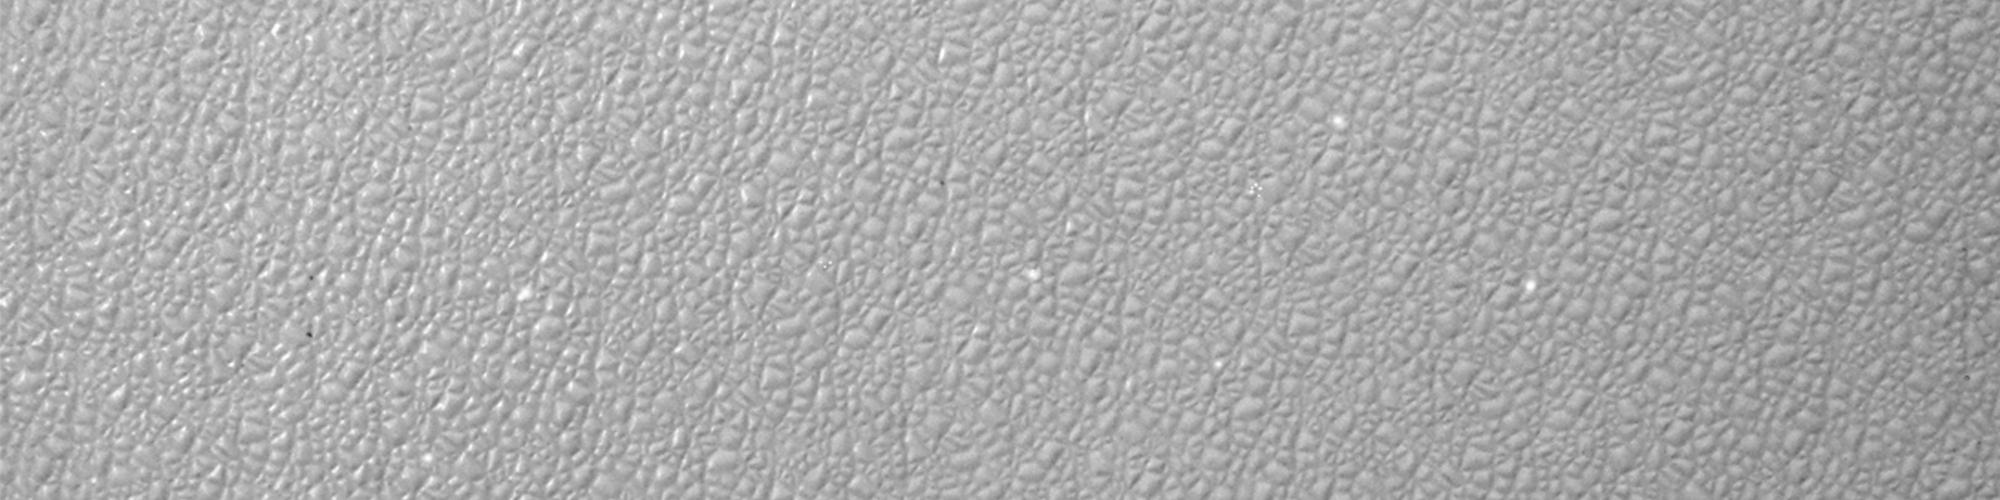Particles: (1327, 108, 1355, 131), (1244, 179, 1270, 196), (1520, 276, 1543, 293), (1023, 268, 1047, 284), (304, 269, 318, 284), (304, 327, 315, 341)
